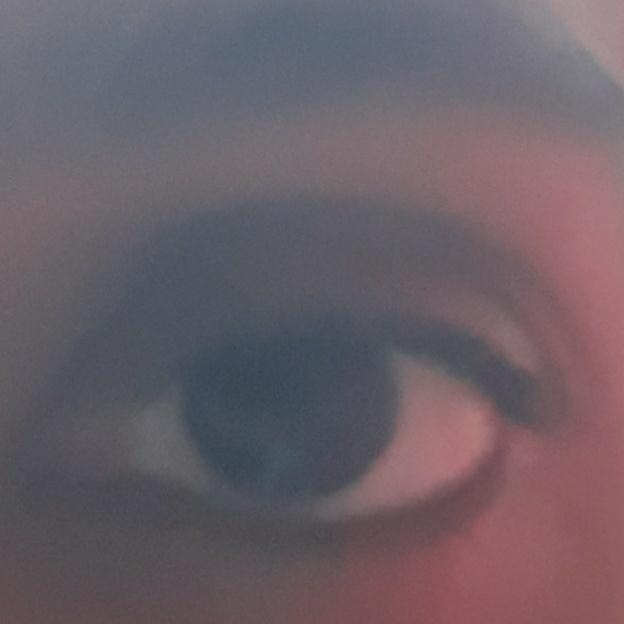open: (0, 203, 624, 613)
